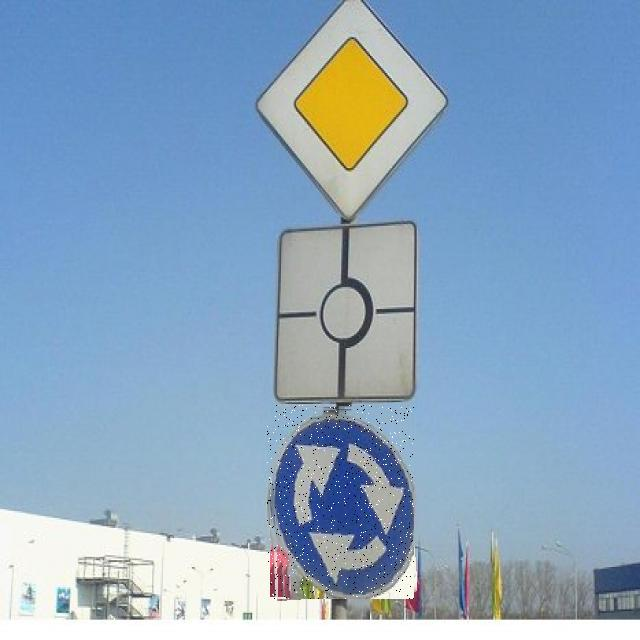roundabout: (267, 405, 414, 599)
